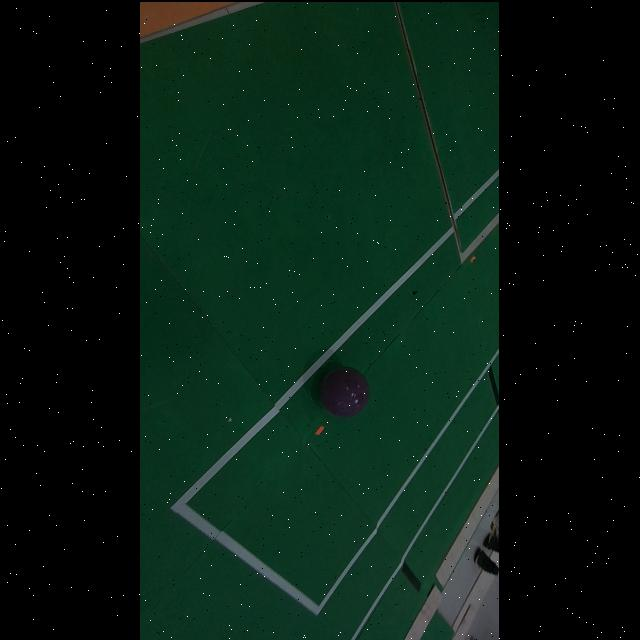P: (320, 366, 370, 416)
